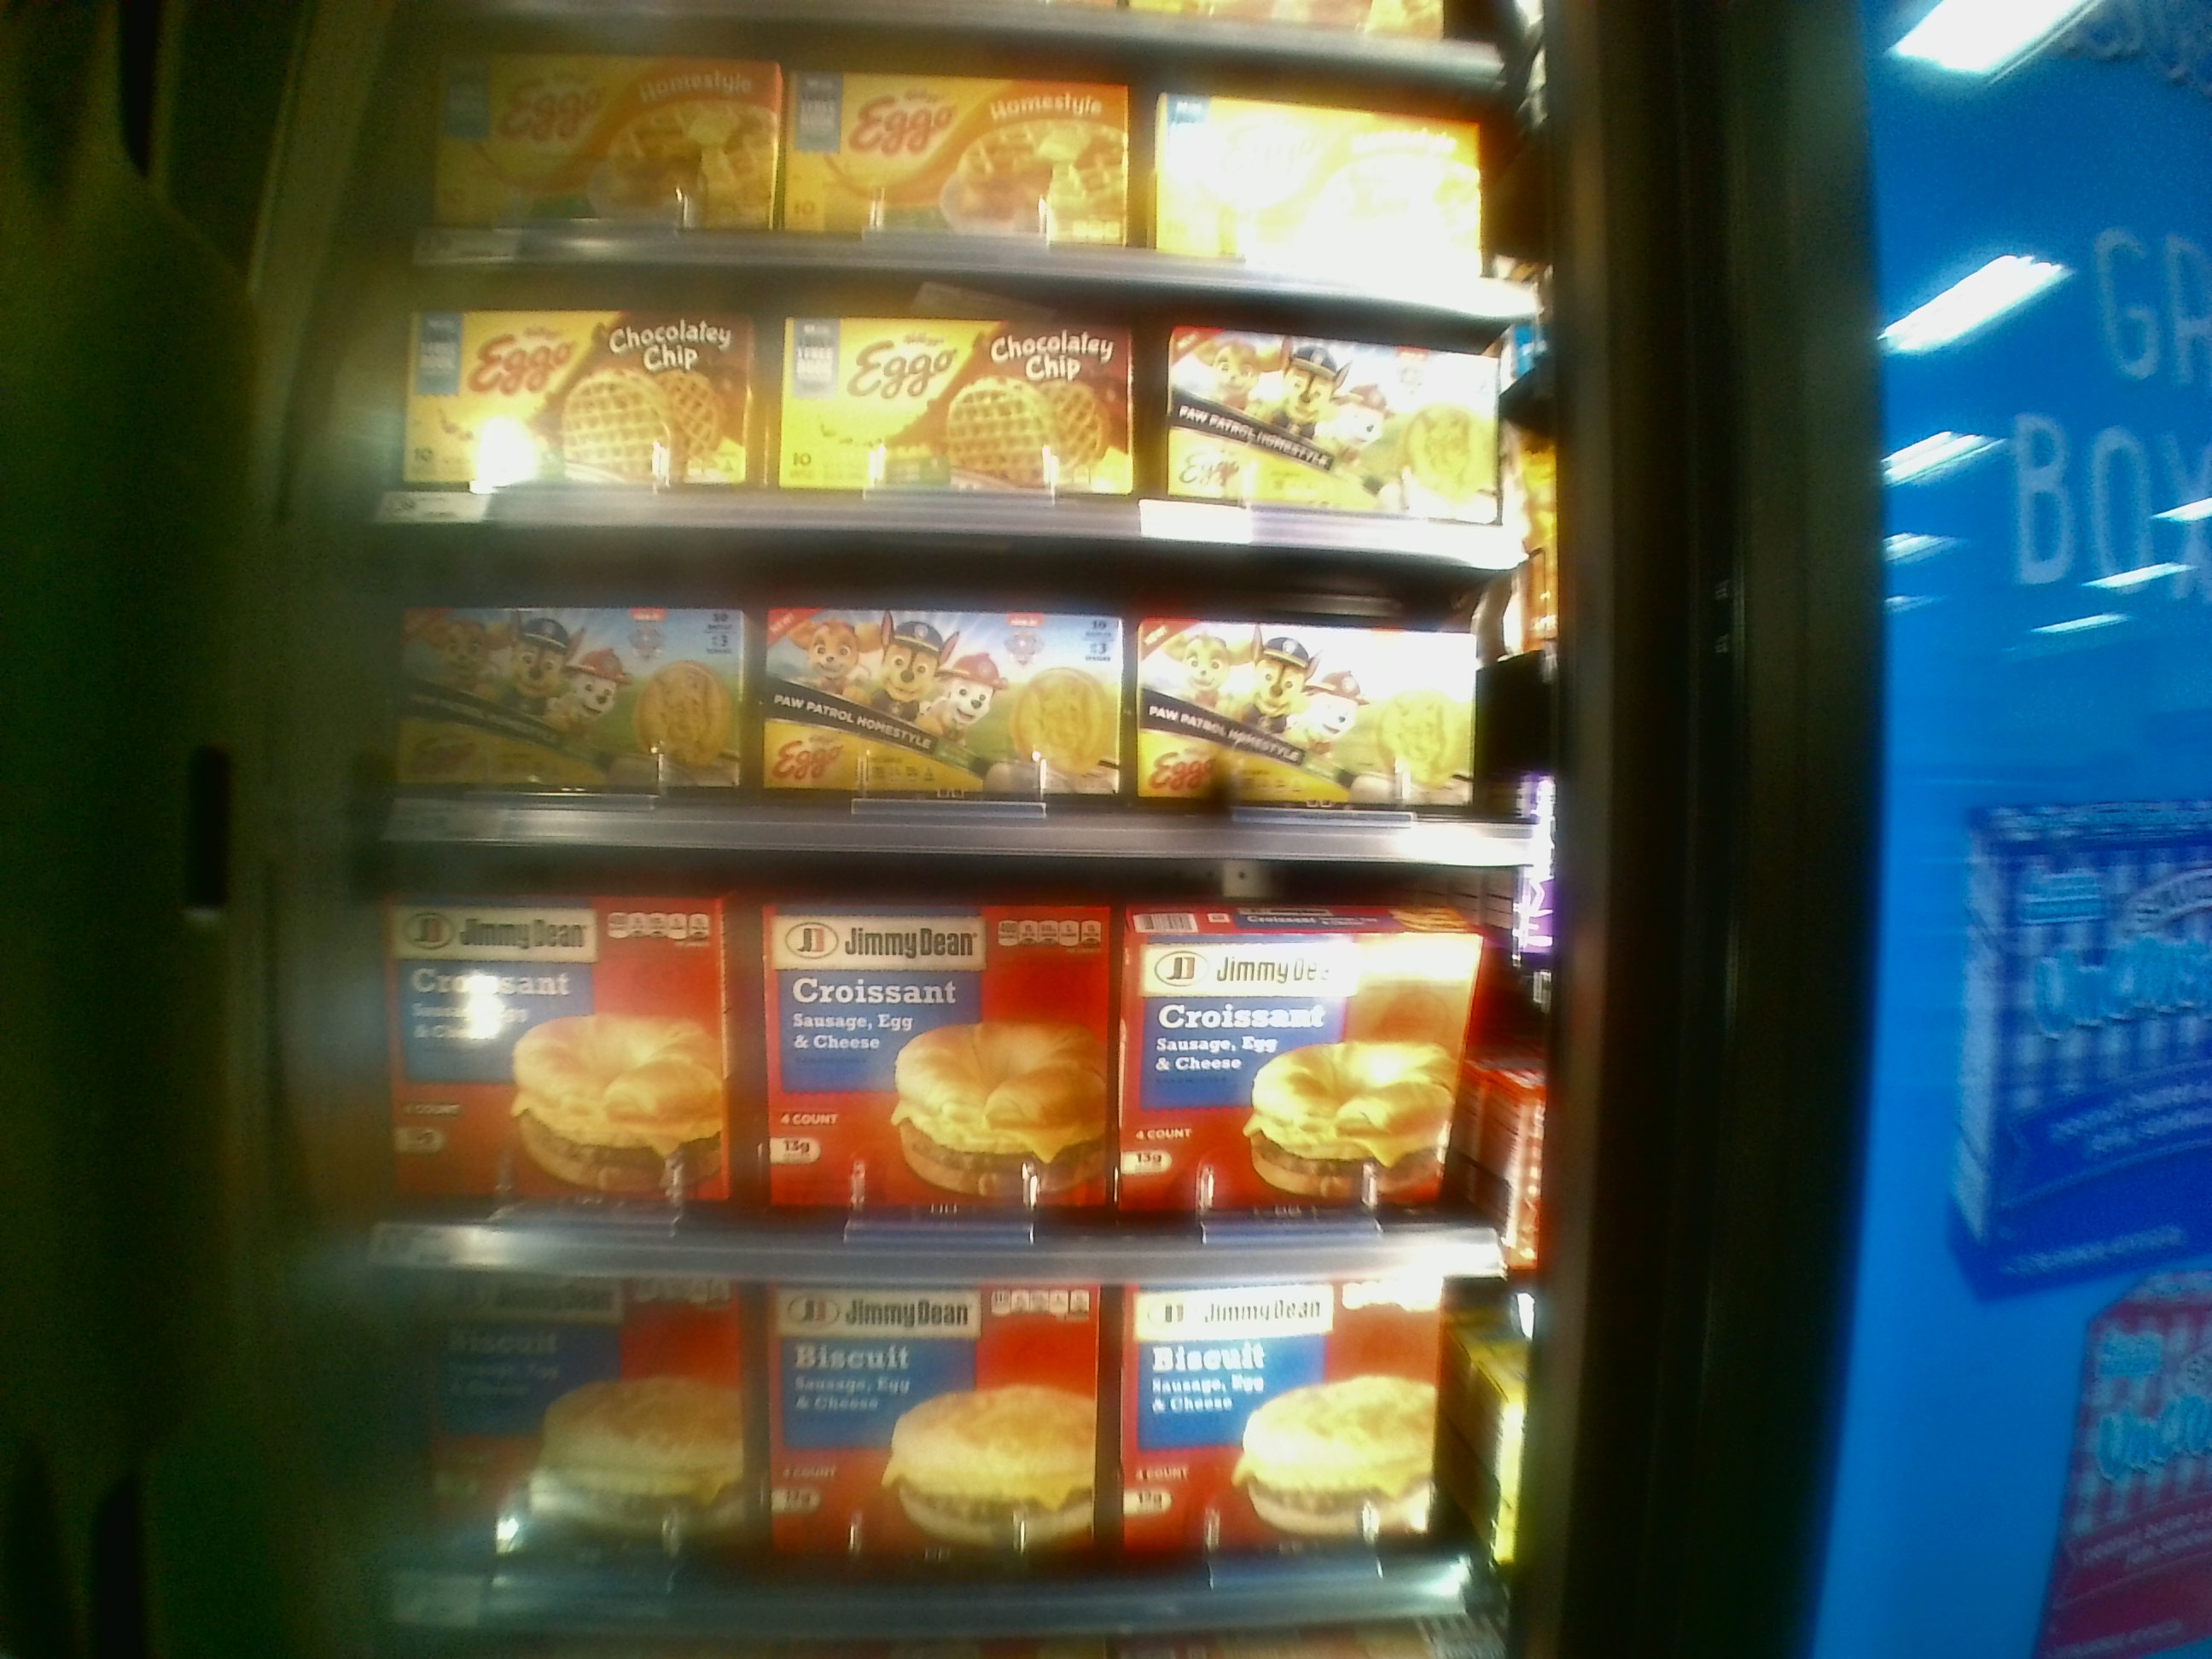frozen-food-shelf: (381, 516, 1531, 863)
